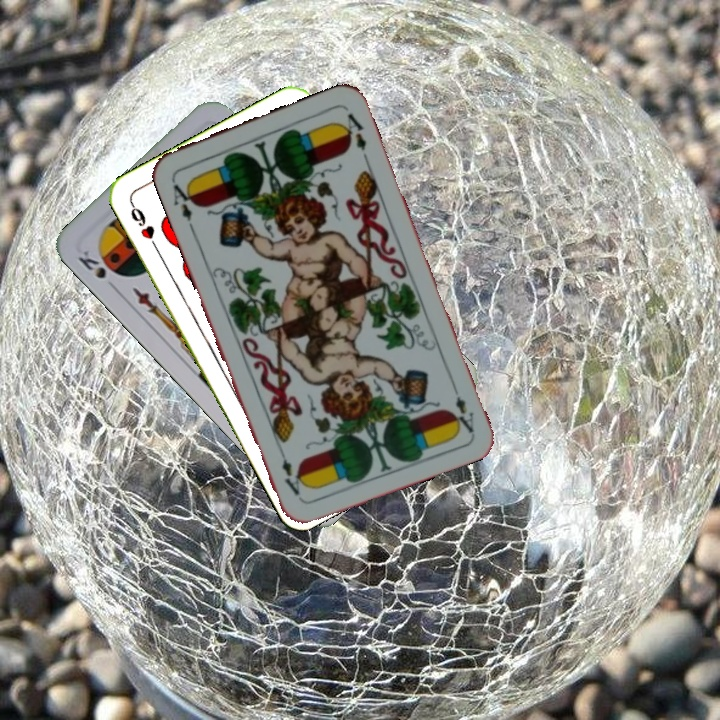EA: (169, 178, 200, 232), (448, 378, 477, 435)
H9: (126, 198, 161, 253)
SK: (74, 245, 120, 294)
